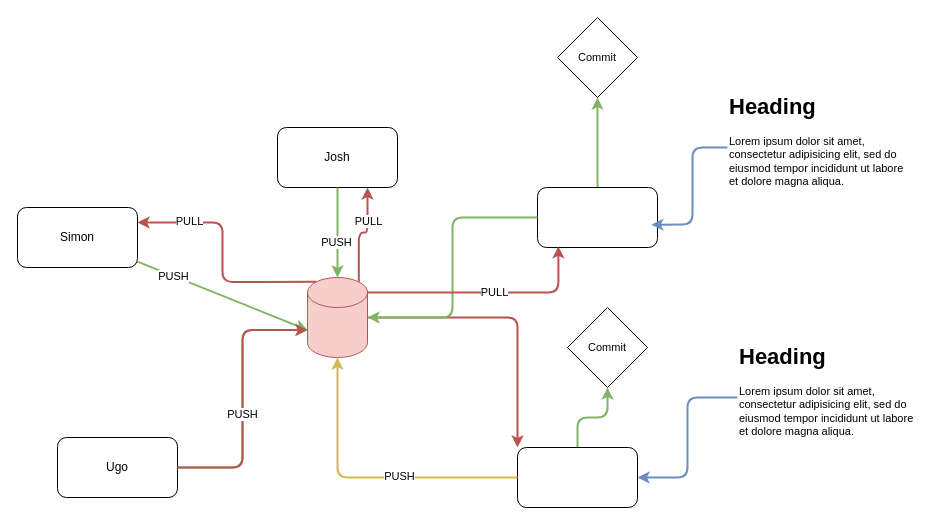
Some shapes in this 935 by 525 pixel diagram are drawn without their labels. Here are the shapes that lost their labels. From the top down, the centre of each, then its label:
At [597,217]: "Toochukwu".
At [337,317]: "Repo (main)".
At [577,477]: "Angela".
